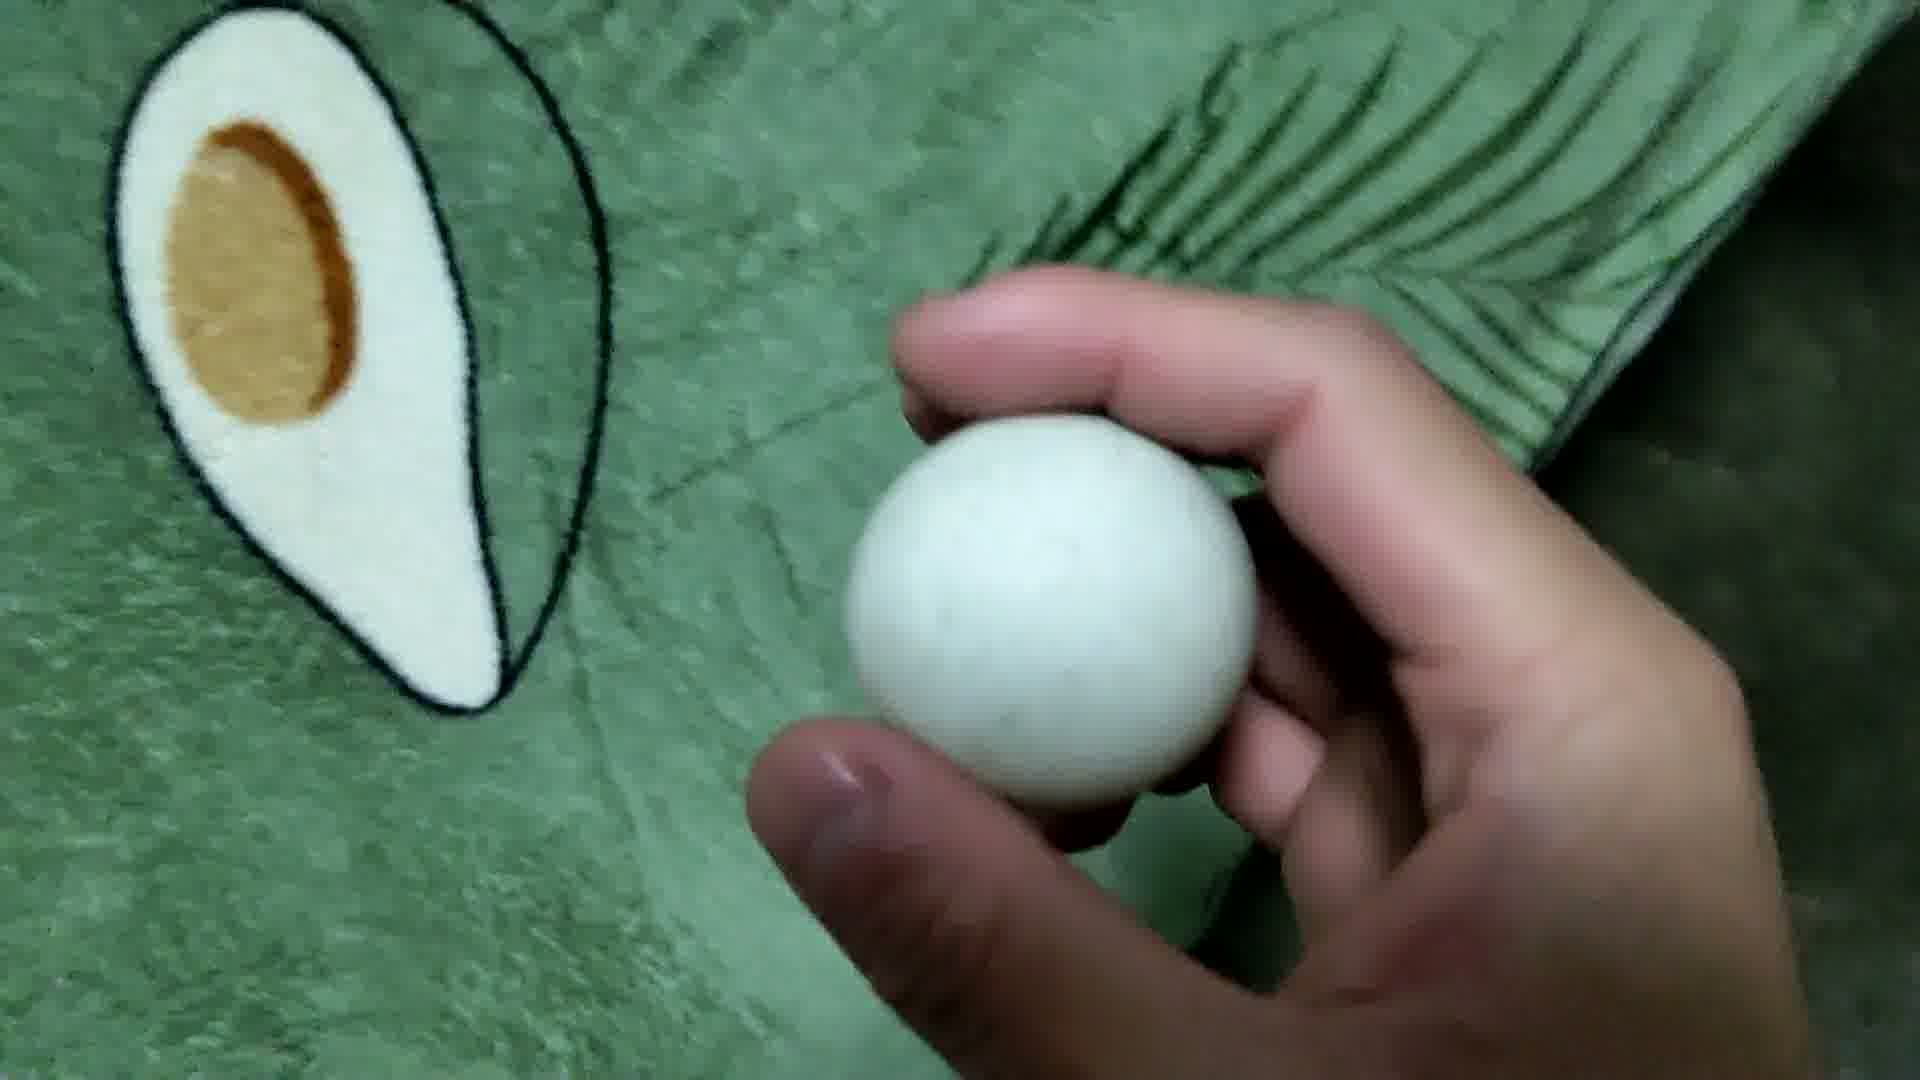Ball: (843, 406, 1262, 800)
